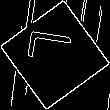L_E: (28, 36, 82, 74)
